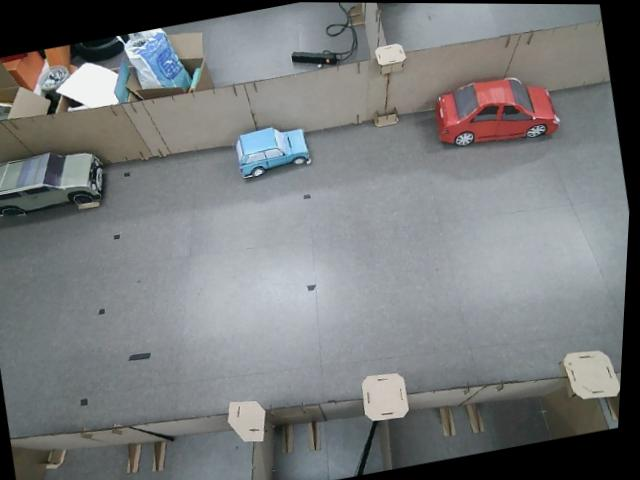car: (427, 67, 562, 157), (0, 143, 111, 223), (230, 119, 312, 179)
